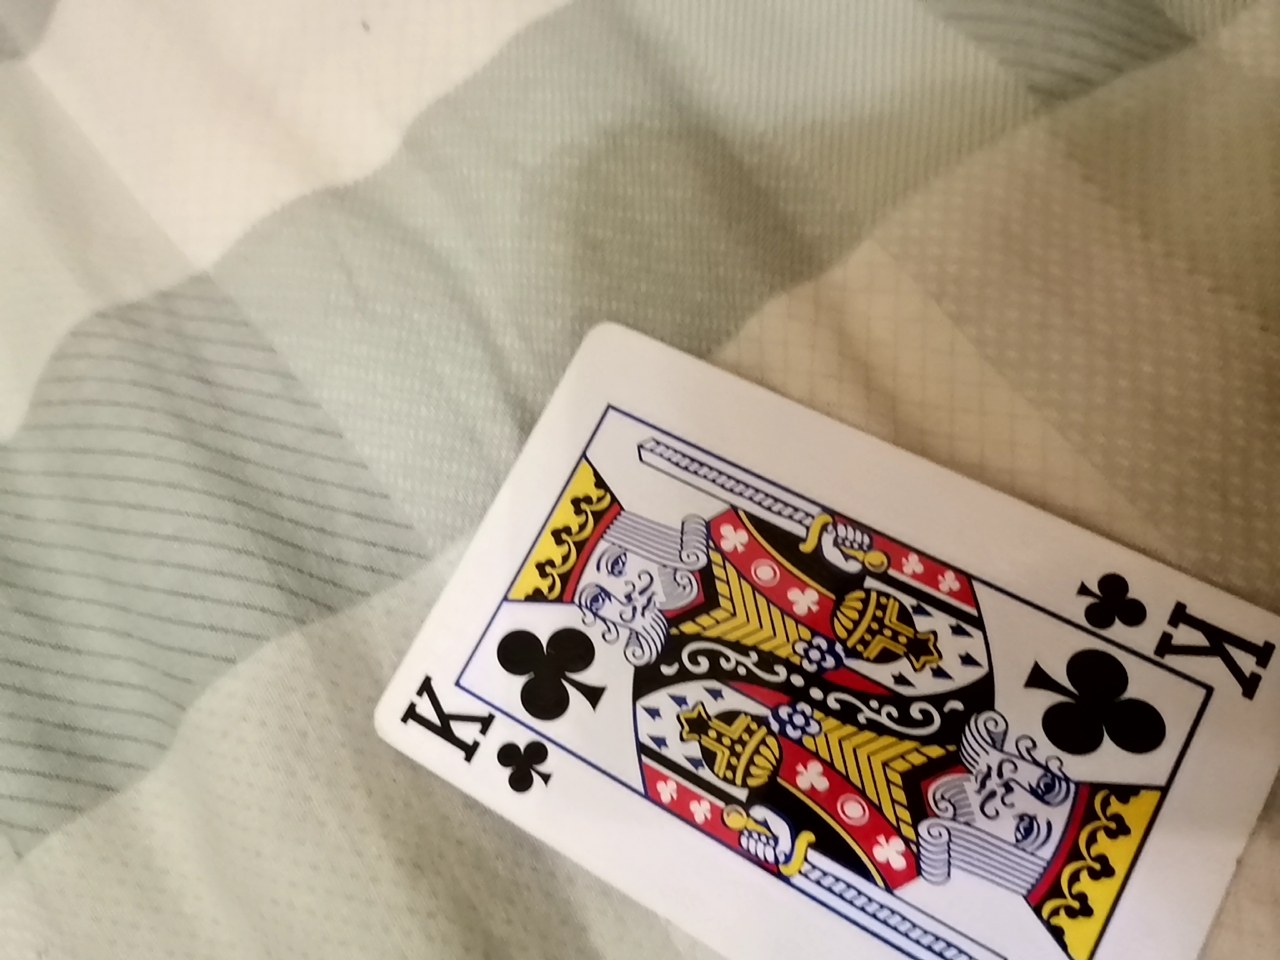mh k: (340, 304, 1274, 953)
